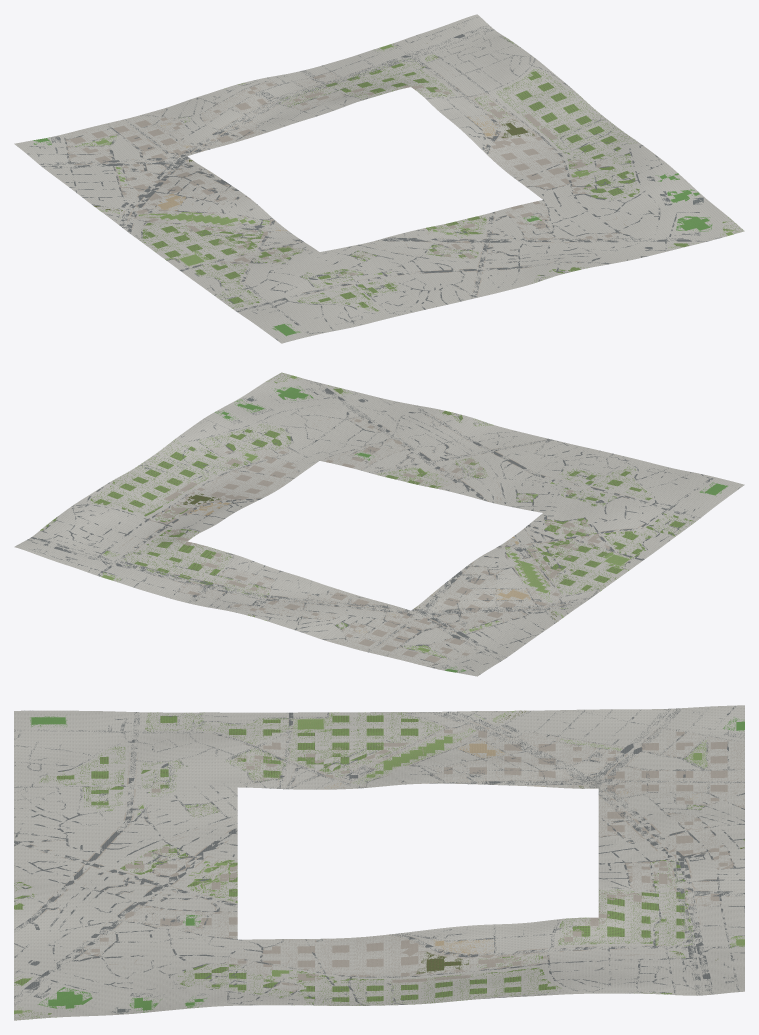
3 views of the same model, one above another, from view 1: azimuth 30°, elevation 25°; view 2: azimuth 150°, elevation 25°; view 3: azimuth 270°, elevation 25° (orthographic). The views are drawn at different scales.
Visible parts, largest first — view 1: ground-alley, ground-asphalt-overlay, ground-cityPave-overlay, ground-aptGarden-overlay, ground-cityPave, ground-aptGarden, ground-sidewalk-overlay, ground-grass-overlay, ground-grass, ground-sportsTurf; view 2: ground-alley, ground-asphalt-overlay, ground-cityPave-overlay, ground-aptGarden-overlay, ground-cityPave, ground-aptGarden, ground-sidewalk-overlay, ground-grass-overlay, ground-grass, ground-sportsTurf; view 3: ground-alley, ground-asphalt-overlay, ground-cityPave-overlay, ground-aptGarden-overlay, ground-cityPave, ground-aptGarden, ground-sidewalk-overlay, ground-grass-overlay, ground-grass, ground-sportsTurf, ground-parking-overlay, ground-construction-overlay (+1 smaller).
Boxes of the visible parts, x1,y1,x2,y2 form: ground-alley: [14, 14, 744, 343]; ground-asphalt-overlay: [17, 17, 721, 340]; ground-cityPave-overlay: [65, 72, 617, 276]; ground-aptGarden-overlay: [141, 36, 742, 311]; ground-cityPave: [69, 74, 612, 275]; ground-aptGarden: [145, 63, 629, 307]; ground-sidewalk-overlay: [114, 62, 626, 296]; ground-grass-overlay: [75, 43, 734, 285]; ground-grass: [95, 44, 733, 265]; ground-sportsTurf: [36, 138, 709, 335]; ground-alley: [14, 372, 744, 676]; ground-asphalt-overlay: [17, 380, 739, 674]; ground-cityPave-overlay: [149, 417, 610, 665]; ground-aptGarden-overlay: [40, 373, 695, 629]; ground-cityPave: [161, 419, 600, 662]; ground-aptGarden: [94, 430, 684, 590]; ground-sidewalk-overlay: [119, 414, 643, 647]; ground-grass-overlay: [100, 376, 633, 658]; ground-grass: [101, 375, 629, 651]; ground-sportsTurf: [221, 387, 727, 672]; ground-alley: [14, 705, 744, 1020]; ground-asphalt-overlay: [14, 706, 744, 1005]; ground-cityPave-overlay: [77, 721, 744, 992]; ground-aptGarden-overlay: [14, 712, 704, 1020]; ground-cityPave: [91, 729, 727, 982]; ground-aptGarden: [57, 715, 684, 1001]; ground-sidewalk-overlay: [20, 715, 744, 968]; ground-grass-overlay: [14, 710, 744, 1015]; ground-grass: [14, 719, 744, 1013]; ground-sportsTurf: [31, 717, 744, 1010]; ground-parking-overlay: [30, 725, 744, 998]; ground-construction-overlay: [324, 740, 697, 955].
Size of the model in its own units: 1360 by 63.39 by 1360.
Materials: 20 (20 with a texture image).
